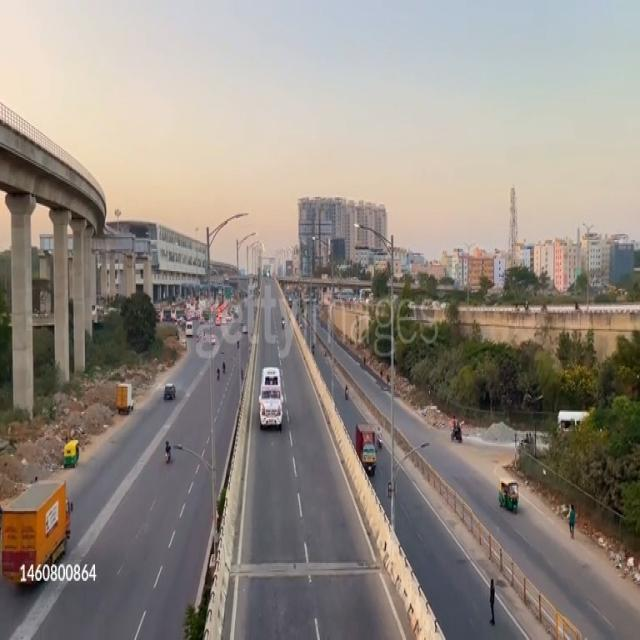emergency: (258, 365, 282, 431)
